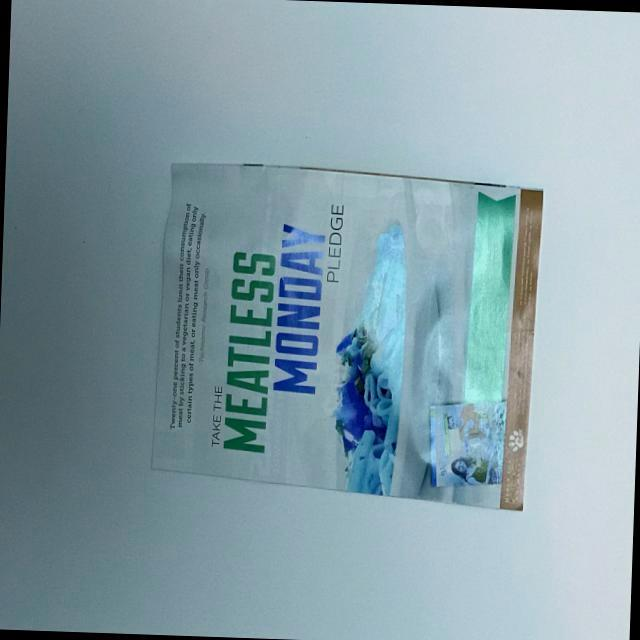paper: (127, 136, 562, 532)
